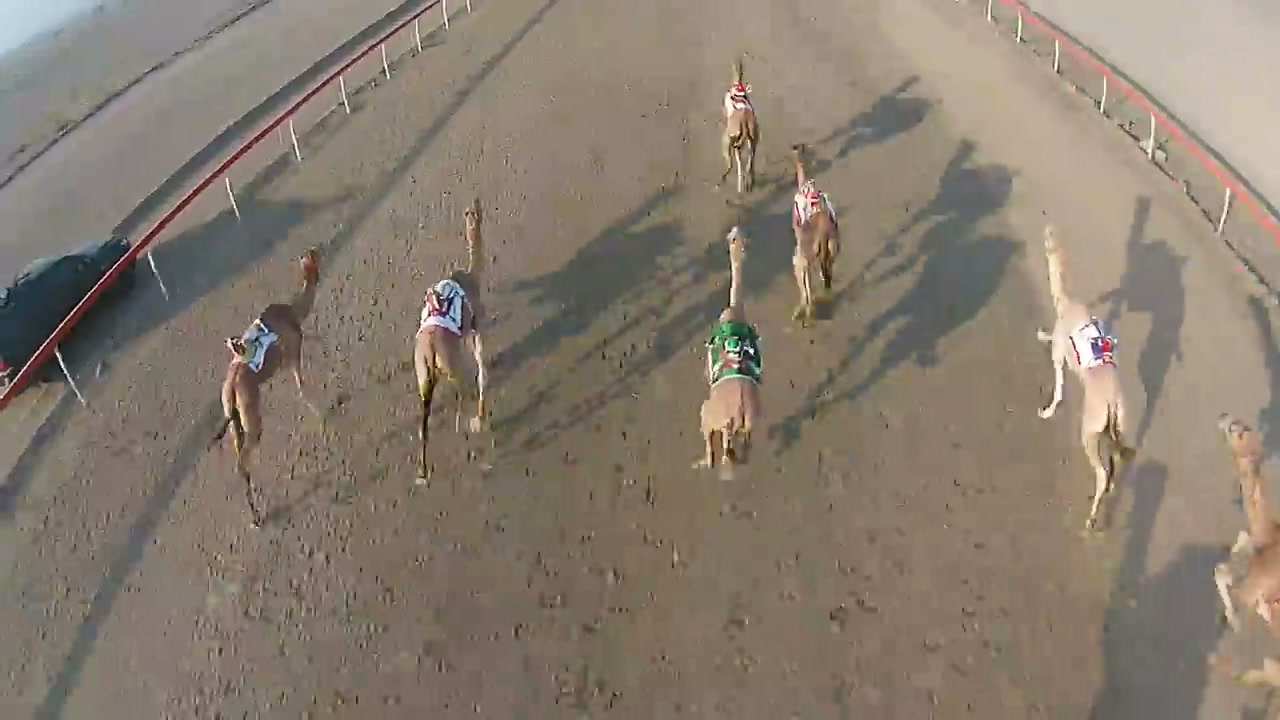animal_foot_print: (511, 437, 693, 700), (177, 511, 357, 719)
